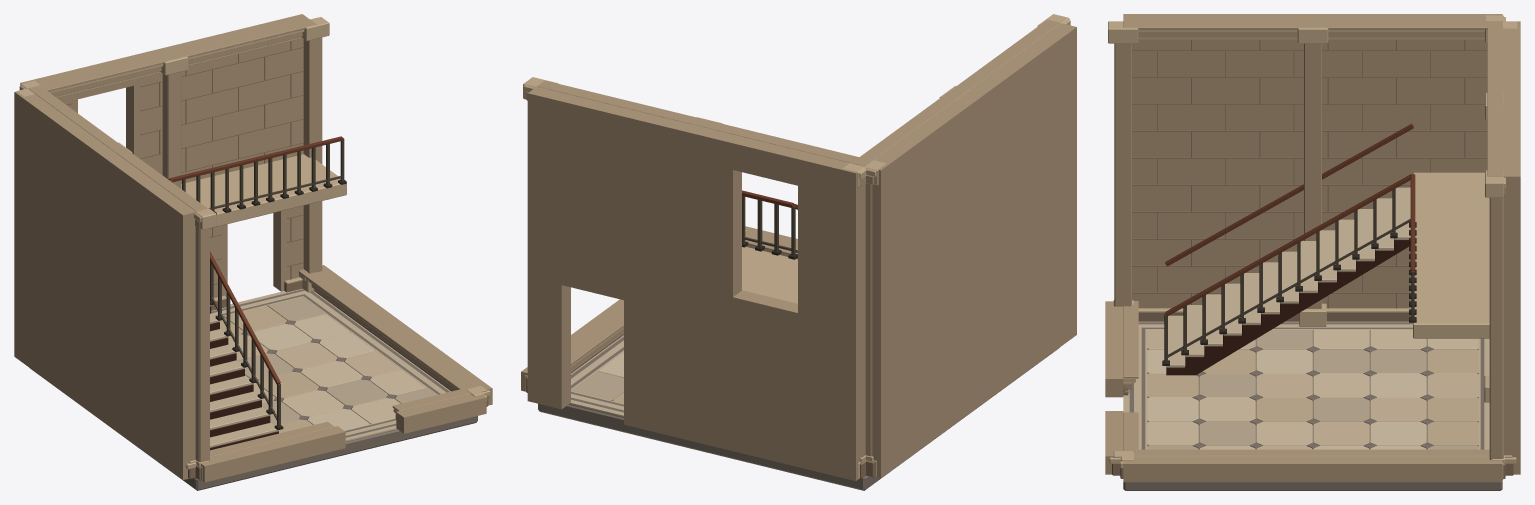
File: service_stair_m_architecture.glb
3 views of the same model, side by side, from view 1: azimuth 30°, elevation 25°; view 2: azimuth 150°, elevation 25°; view 3: azimuth 270°, elevation 25° (orthographic). The views are drawn at different scales.
Parts seen in each view (by area): view 1: service_stair_M_left_Wall_Solid_00, service_stair_M_rear_Wall_Solid_00, service_stair_M_Floor, service_stair_M_front_Cutedge_Solid_00, service_stair_M_Upper_landing, Pier_002, service_stair_M_Exact_service_flight, service_stair_M_Floor_Foundation, Pier_003, service_stair_M_rear_Wall_Cornice_00_3_0, service_stair_M_right_Cutedge_Solid_00, service_stair_M_Landing_front (+15 smaller); view 2: service_stair_M_rear_Wall_Solid_00, service_stair_M_left_Wall_Solid_00, service_stair_M_Floor_Foundation, service_stair_M_Floor, service_stair_M_rear_Wall_Cornice_00_3_0, service_stair_M_left_Wall_Cornice_00_3_0, service_stair_M_Upper_landing, Pilaster_Shaft, Pilaster_Shaft_003, service_stair_M_Landing_front, service_stair_M_right_Cutedge_Solid_00, service_stair_M_right_Cutedge_Cornice_00_3_0; view 3: service_stair_M_left_Wall_Solid_00, service_stair_M_Floor, service_stair_M_Upper_landing, service_stair_M_Exact_service_flight, service_stair_M_right_Cutedge_Solid_00, service_stair_M_rear_Wall_Solid_00, service_stair_M_left_Masonry_Real_joint_mesh, Pier_003, Pier_002, service_stair_M_Exact_service_flight_Closed_Wood_Support, Pier_004, service_stair_M_Floor_Foundation (+22 smaller).
Boxes of the visible parts, box(x1,y1,x2,y2) form: service_stair_M_left_Wall_Solid_00: box(14, 91, 195, 479); service_stair_M_rear_Wall_Solid_00: box(20, 14, 309, 297); service_stair_M_Floor: box(211, 288, 450, 441); service_stair_M_front_Cutedge_Solid_00: box(201, 394, 486, 482); service_stair_M_Upper_landing: box(181, 154, 346, 228); Pier_002: box(303, 37, 322, 273); service_stair_M_Exact_service_flight: box(210, 305, 278, 447); service_stair_M_Floor_Foundation: box(30, 368, 477, 490); Pier_003: box(199, 210, 209, 462); service_stair_M_rear_Wall_Cornice_00_3_0: box(30, 19, 316, 92); service_stair_M_right_Cutedge_Solid_00: box(316, 265, 492, 405); service_stair_M_Landing_front: box(182, 138, 346, 214); service_stair_M_rear_Wall_Solid_00: box(527, 87, 860, 480); service_stair_M_left_Wall_Solid_00: box(872, 23, 1076, 478); service_stair_M_Floor_Foundation: box(538, 347, 1059, 490); service_stair_M_Floor: box(569, 335, 623, 417); service_stair_M_rear_Wall_Cornice_00_3_0: box(537, 80, 871, 166); service_stair_M_left_Wall_Cornice_00_3_0: box(852, 19, 1060, 166); service_stair_M_Upper_landing: box(742, 246, 797, 303); Pilaster_Shaft: box(865, 183, 871, 456); Pilaster_Shaft_003: box(861, 183, 865, 457); service_stair_M_Landing_front: box(742, 196, 797, 259); service_stair_M_right_Cutedge_Solid_00: box(521, 299, 623, 391); service_stair_M_right_Cutedge_Cornice_00_3_0: box(571, 312, 623, 365); service_stair_M_left_Wall_Solid_00: box(1123, 14, 1502, 308); service_stair_M_Floor: box(1123, 321, 1489, 449); service_stair_M_Upper_landing: box(1413, 172, 1489, 338); service_stair_M_Exact_service_flight: box(1166, 187, 1410, 367); service_stair_M_right_Cutedge_Solid_00: box(1123, 456, 1502, 482); service_stair_M_rear_Wall_Solid_00: box(1503, 21, 1520, 474); service_stair_M_left_Masonry_Real_joint_mesh: box(1132, 40, 1487, 308); Pier_003: box(1114, 43, 1131, 306); Pier_002: box(1489, 197, 1502, 459); service_stair_M_Exact_service_flight_Closed_Wood_Support: box(1166, 239, 1410, 375); Pier_004: box(1304, 43, 1321, 308); service_stair_M_Floor_Foundation: box(1123, 482, 1502, 490).
Size of the model in its own units: 6.36 by 5.52 by 6.56.
